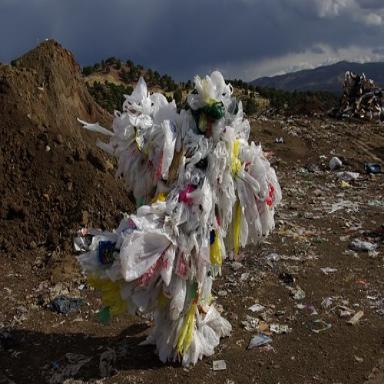plasticbag: (73, 65, 286, 369)
